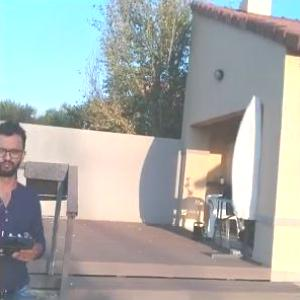follow: (0, 111, 50, 300)
